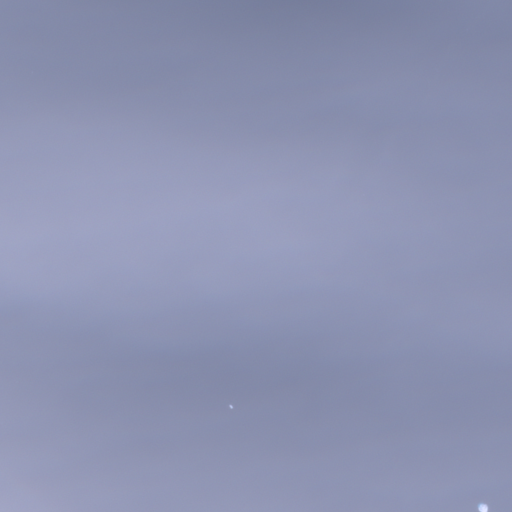Iceberg: (478, 504, 487, 511), (229, 405, 232, 408)
